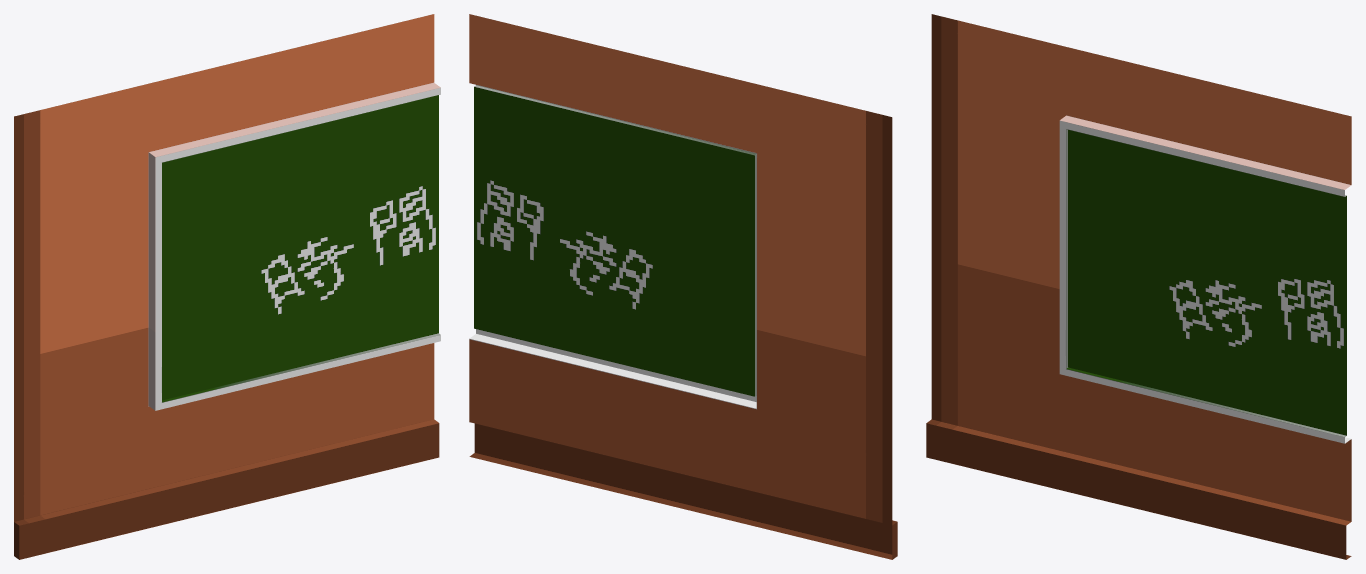
The model's file is wall-board-lefthalf.fbx.
The picture shows the model from 3 angles, left to right: view 1: azimuth 30°, elevation 25°; view 2: azimuth 150°, elevation 25°; view 3: azimuth 330°, elevation 25°; orthographic projection.
Parts seen in each view (by area): view 1: Plane; view 2: Plane; view 3: Plane.
Part boxes in pixels (left/top/right/bottom): Plane: left=14, top=14, right=440, bottom=559; Plane: left=469, top=14, right=897, bottom=559; Plane: left=926, top=14, right=1351, bottom=559.
Size of the model in its own units: 768 by 768 by 21.16.
1 material, 1 textured.
